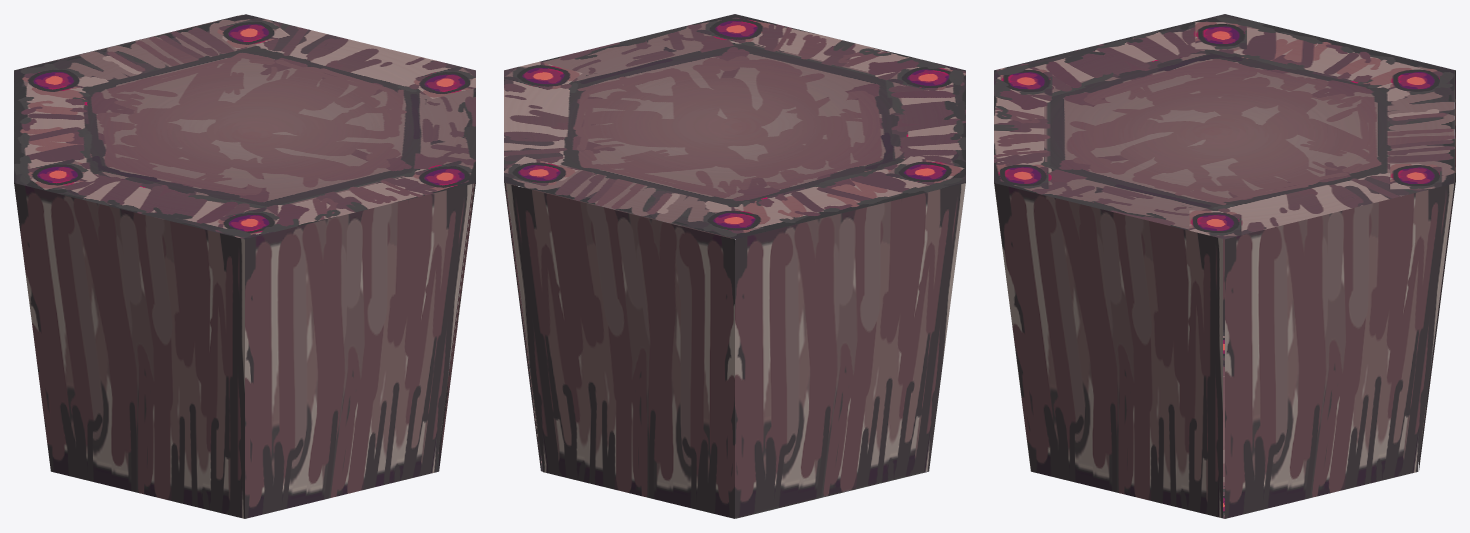
File: tile_hero_bad.FBX
3 renders of one model, left to right at view 1: azimuth 30°, elevation 25°; view 2: azimuth 150°, elevation 25°; view 3: azimuth 270°, elevation 25°, orthographic.
Visible parts, largest first — view 1: Box003; view 2: Box003; view 3: Box003.
Part boxes in pixels (bbox=[...]): Box003: bbox=[14, 14, 475, 518]; Box003: bbox=[504, 14, 965, 518]; Box003: bbox=[994, 14, 1455, 518].
Bounding box in the file's own units: 41.95 × 36.33 × 25.83.
Materials: 1 (1 with a texture image).
